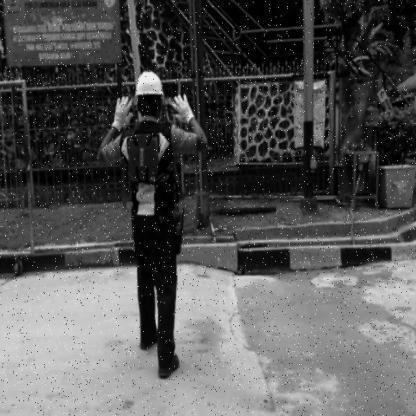boots: (156, 350, 180, 381), (139, 326, 159, 351)
gloves: (110, 93, 134, 131), (170, 94, 196, 124)
helmet: (135, 69, 164, 98)
vest: (126, 132, 164, 180)
